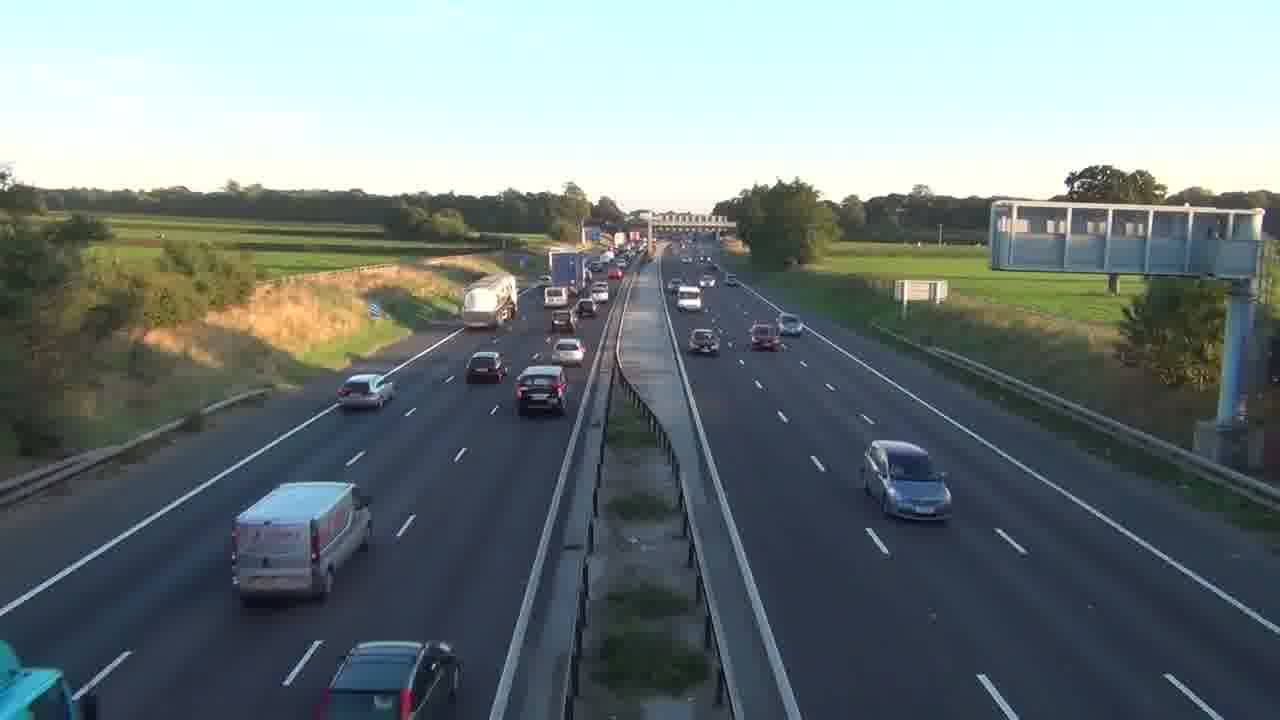car: (314, 639, 464, 719), (860, 438, 953, 522), (514, 367, 568, 417), (335, 372, 390, 411), (464, 350, 506, 385), (749, 321, 785, 351), (553, 337, 586, 367)
truck: (227, 479, 374, 605), (675, 284, 703, 312)
